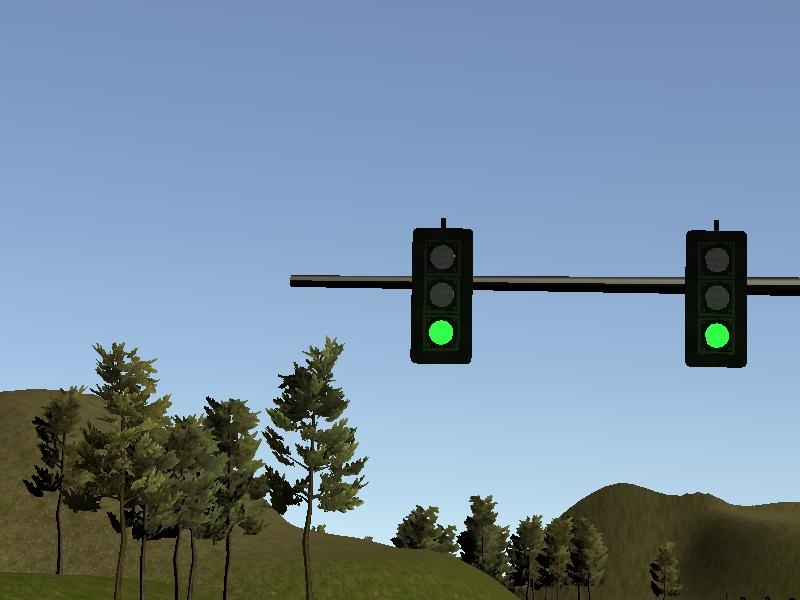GREEN: (683, 228, 748, 367), (409, 228, 473, 364)
